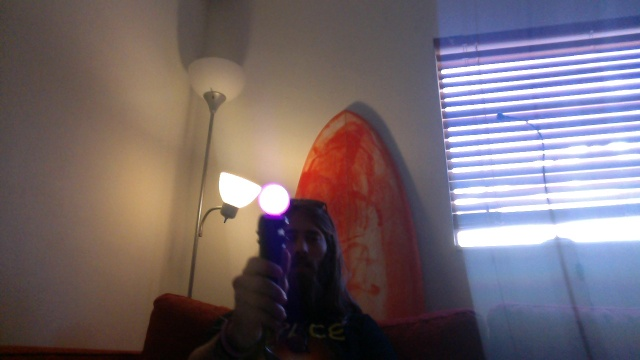wand: (261, 184, 290, 216)
